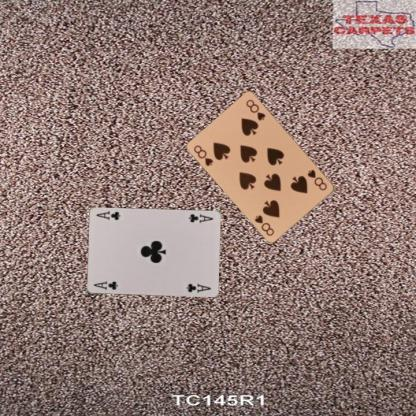8s: (305, 167, 328, 192), (192, 142, 214, 168)
Ac: (186, 212, 214, 224), (92, 279, 118, 291)
